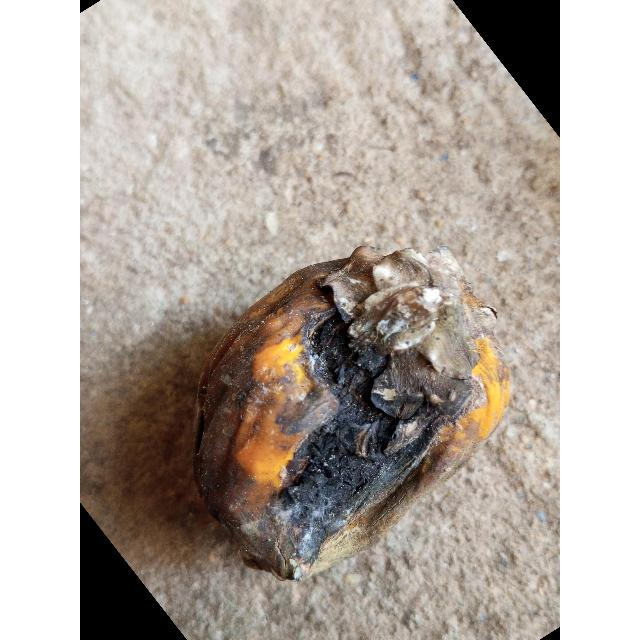damaged: (192, 247, 513, 583)
